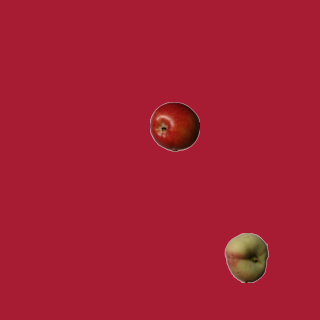Apple Braeburn: (149, 101, 199, 151)
Peach Flat: (221, 232, 271, 282)
